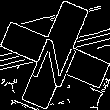N_NE: (26, 24, 84, 86)
